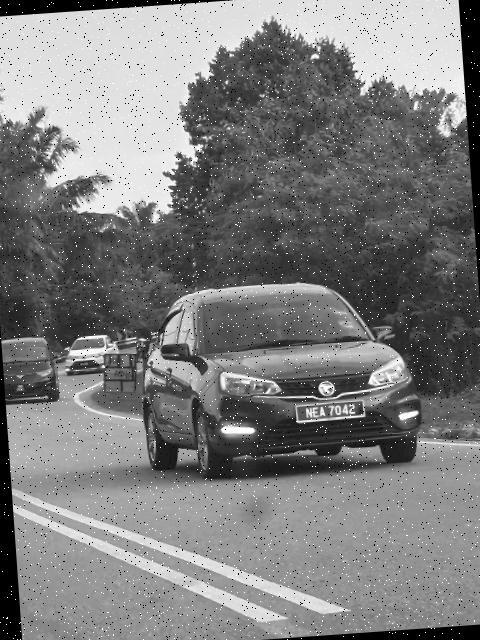License_Plate: (298, 399, 368, 423)
NEA7042: (298, 399, 368, 423)
car: (131, 272, 424, 487)
